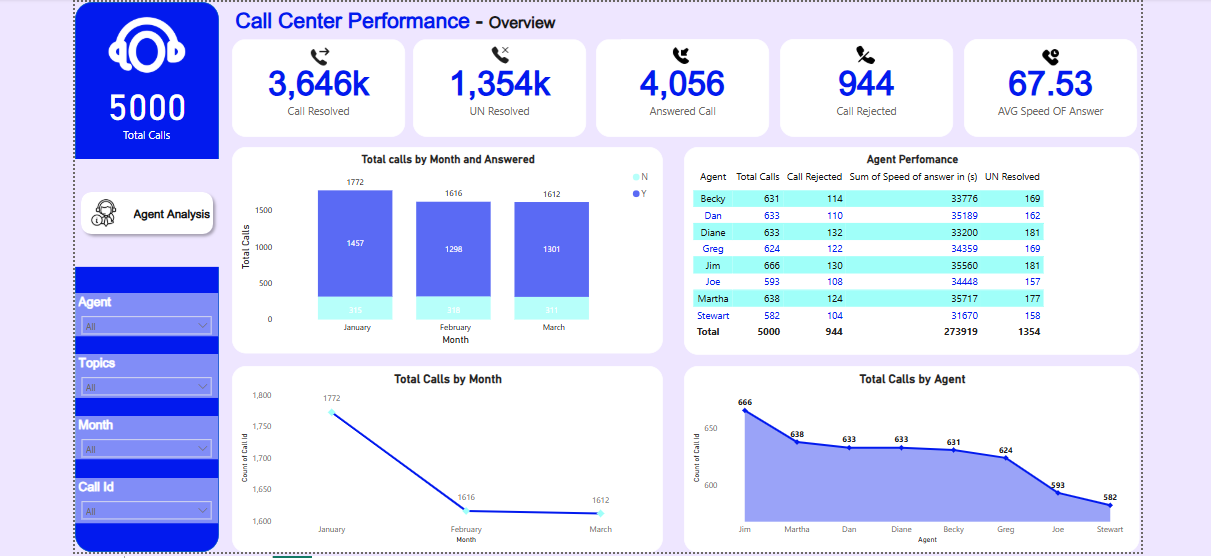

This screenshot's page, from the dashboard's own definition file:
{"tool":"powerbi","page":{"name":"Call Center Analysis","canvas":[1600,826],"ordinal":0},"visuals":[{"type":"shape","box":[0,0,216.3,826],"z":0},{"type":"lineChart","title":"Total Calls  by Month","fields":{"Y":["CountNonNull(Call-Center.Call Id)"],"Category":["Call-Center.date time.Variation.Date Hierarchy.Month"]},"box":[236,546.2,647.3,279.8],"z":1000},{"type":"stackedAreaChart","title":"Total Calls by Agent","fields":{"Y":["CountNonNull(Call-Center.Call Id)"],"Category":["Call-Center.Agent"]},"box":[915.3,546.2,684.4,279.8],"z":2000},{"type":"tableEx","title":"Agent Perfomance","fields":{"Values":["Call-Center.Agent","Call-Center.total calls","Call-Center.un Answered","Sum(Call-Center.Speed of answer in seconds)","Call-Center.Call Abandoned"]},"box":[915.3,217.5,684.4,311.9],"z":3000},{"type":"card","title":"Call Resolved","fields":{"Values":["Call-Center.answered Call"]},"box":[782.4,55.6,260,147.2],"z":4000},{"type":"card","fields":{"Values":["Call-Center.TOTAL resolved"]},"box":[235.8,55.6,260,147.2],"z":5000},{"type":"card","fields":{"Values":["Call-Center.unresolved"]},"box":[507.6,55.6,259.8,147.2],"z":6000},{"type":"card","fields":{"Values":["Call-Center.Call Rejected"]},"box":[1058.8,55.6,259.8,147.2],"z":7000},{"type":"card","fields":{"Values":["Call-Center.AVG Speed OF Answer"]},"box":[1335.1,55.6,260,147.2],"z":8000},{"type":"columnChart","title":"Total calls by Month and Answered ","fields":{"Category":["Call-Center.date time.Variation.Date Hierarchy.Month"],"Y":["Call-Center.total calls"],"Series":["Call-Center.Answered (Y/N)"]},"box":[236,217.5,647.3,310.2],"z":9000},{"type":"textbox","box":[235.8,0,584.2,55.6],"z":10000},{"type":"card","fields":{"Values":["Call-Center.total calls"]},"box":[24,105.1,166.7,112.6],"z":11000},{"type":"image","box":[605.2,60.1,66.1,39],"z":12000},{"type":"image","box":[321.4,60.1,90.1,45.1],"z":13000},{"type":"slicer","title":"Agent","fields":{"Values":["Call-Center.Agent"]},"box":[0,437,214.8,64.6],"z":14000},{"type":"slicer","title":"Topics","fields":{"Values":["Call-Center.Topic"]},"box":[0,528.6,214.8,66.1],"z":15000},{"type":"slicer","title":"Month","fields":{"Values":["Call-Center.date time.Variation.Date Hierarchy.Month"]},"box":[0,621.8,214.8,64.6],"z":16000},{"type":"slicer","title":"Call Id","fields":{"Values":["Call-Center.Call Id"]},"box":[0,714.9,214.8,67.6],"z":17000},{"type":"shape","box":[0,235.8,235.8,162.2],"z":18000},{"type":"shape","box":[0,276.3,216.3,81.1],"z":19000},{"type":"image","box":[889.1,61.6,42.1,37.5],"z":20000},{"type":"image","box":[1166.9,54.1,40.5,51.1],"z":21000},{"type":"image","box":[1446.3,60.1,37.5,45.1],"z":22000},{"type":"image","box":[10.5,276.3,64.6,81.1],"z":23000},{"type":"image","box":[31.5,0,153.2,129.2],"z":24000}]}

Visuals, with their boxes in screenshot pixels (x1, y1, x2, y2):
shape: <bbox>69, 0, 214, 550</bbox>
"Total Calls  by Month" lineChart: <bbox>227, 364, 658, 550</bbox>
"Total Calls by Agent" stackedAreaChart: <bbox>679, 364, 1135, 550</bbox>
"Agent Perfomance" tableEx: <bbox>679, 145, 1135, 353</bbox>
"Call Resolved" card: <bbox>591, 37, 764, 135</bbox>
card - Call-Center.TOTAL resolved: <bbox>227, 37, 400, 135</bbox>
card - Call-Center.unresolved: <bbox>408, 37, 581, 135</bbox>
card - Call-Center.Call Rejected: <bbox>775, 37, 948, 135</bbox>
card - Call-Center.AVG Speed OF Answer: <bbox>959, 37, 1132, 135</bbox>
"Total calls by Month and Answered " columnChart: <bbox>227, 145, 658, 352</bbox>
textbox: <bbox>227, 0, 616, 37</bbox>
card - Call-Center.total calls: <bbox>85, 70, 196, 145</bbox>
image: <bbox>473, 40, 517, 66</bbox>
image: <bbox>284, 40, 344, 70</bbox>
"Agent" slicer: <bbox>69, 291, 213, 334</bbox>
"Topics" slicer: <bbox>69, 352, 213, 396</bbox>
"Month" slicer: <bbox>69, 414, 213, 457</bbox>
"Call Id" slicer: <bbox>69, 476, 213, 521</bbox>
shape: <bbox>69, 157, 227, 265</bbox>
shape: <bbox>69, 184, 214, 238</bbox>
image: <bbox>662, 41, 690, 66</bbox>
image: <bbox>847, 36, 874, 70</bbox>
image: <bbox>1033, 40, 1058, 70</bbox>
image: <bbox>76, 184, 119, 238</bbox>
image: <bbox>90, 0, 192, 86</bbox>
